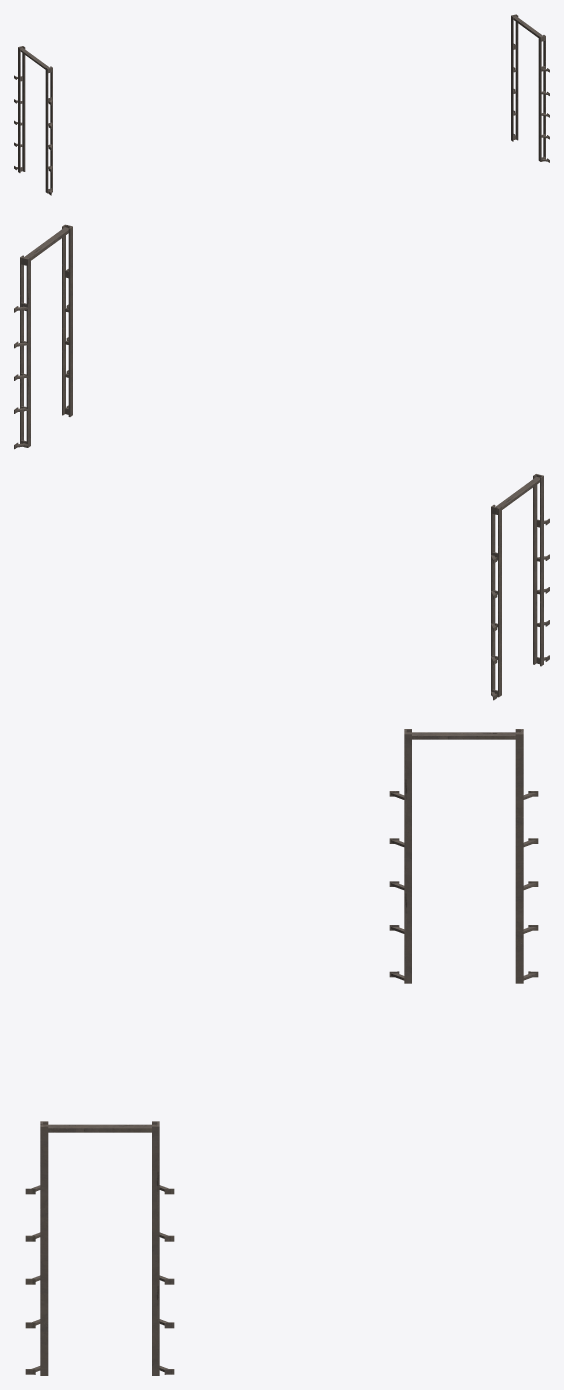
File: SM_Republic_01.fbx
3 renders of one model, top to bottom at view 1: azimuth 30°, elevation 25°; view 2: azimuth 150°, elevation 25°; view 3: azimuth 270°, elevation 25°, orthographic. The views are drawn at different scales.
Visible parts, largest first — view 1: SM_Republic_01; view 2: SM_Republic_01; view 3: SM_Republic_01.
Part boxes in pixels (box(x1,y1,x2,y2)): SM_Republic_01: box(14, 14, 549, 195); SM_Republic_01: box(14, 224, 549, 700); SM_Republic_01: box(25, 729, 538, 1375).
Size of the model in its own units: 3387 by 989 by 1842.
